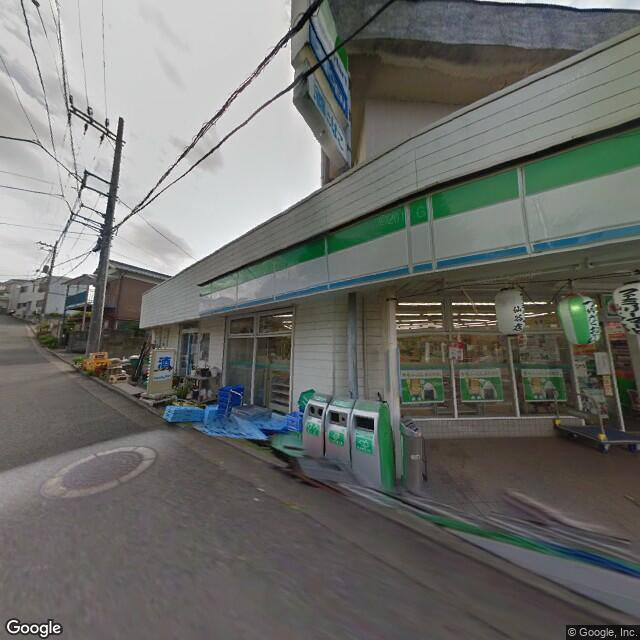family_mart: (197, 123, 639, 321), (310, 1, 351, 106)
